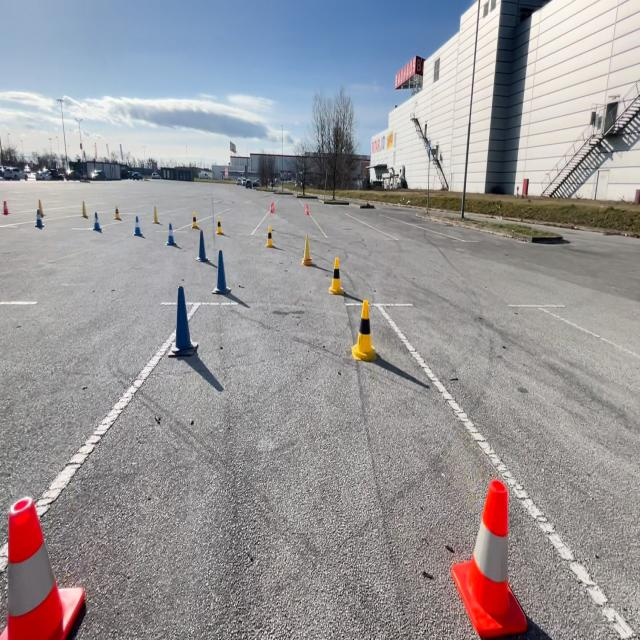blue_cone: (168, 283, 198, 358), (210, 247, 231, 294), (195, 227, 210, 262), (33, 198, 45, 227), (165, 221, 178, 246), (132, 214, 144, 236), (91, 211, 102, 232)
orange_cone: (0, 491, 87, 639), (451, 474, 529, 636), (1, 198, 10, 214), (267, 199, 276, 214), (304, 201, 311, 214)
yellow_cone: (350, 296, 377, 362), (327, 255, 344, 294), (300, 231, 313, 266), (264, 216, 276, 249), (215, 212, 224, 235), (191, 208, 200, 228), (113, 202, 122, 220), (80, 198, 88, 218), (152, 204, 160, 223), (38, 192, 44, 210)
